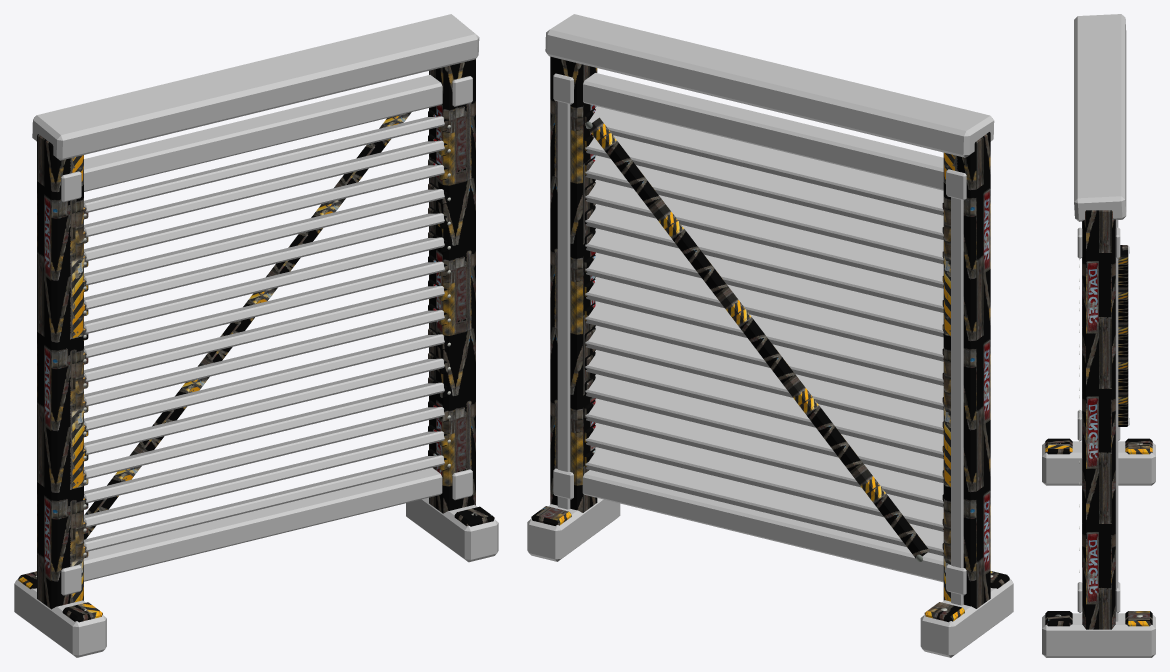
The model's file is DH_Slatted_Privacy_Screen.fbx.
The picture shows the model from 3 angles, left to right: view 1: azimuth 30°, elevation 25°; view 2: azimuth 150°, elevation 25°; view 3: azimuth 270°, elevation 25°; orthographic projection. The views are drawn at different scales.
Parts seen in each view (by area): view 1: Model_Geometry; view 2: Model_Geometry; view 3: Model_Geometry.
Boxes of the visible parts, <box> form: Model_Geometry: <box>14,14,498,657</box>; Model_Geometry: <box>527,14,1013,657</box>; Model_Geometry: <box>1042,14,1155,657</box>.
Bounding box in the file's own units: 1.48 × 1.7 × 0.38.
